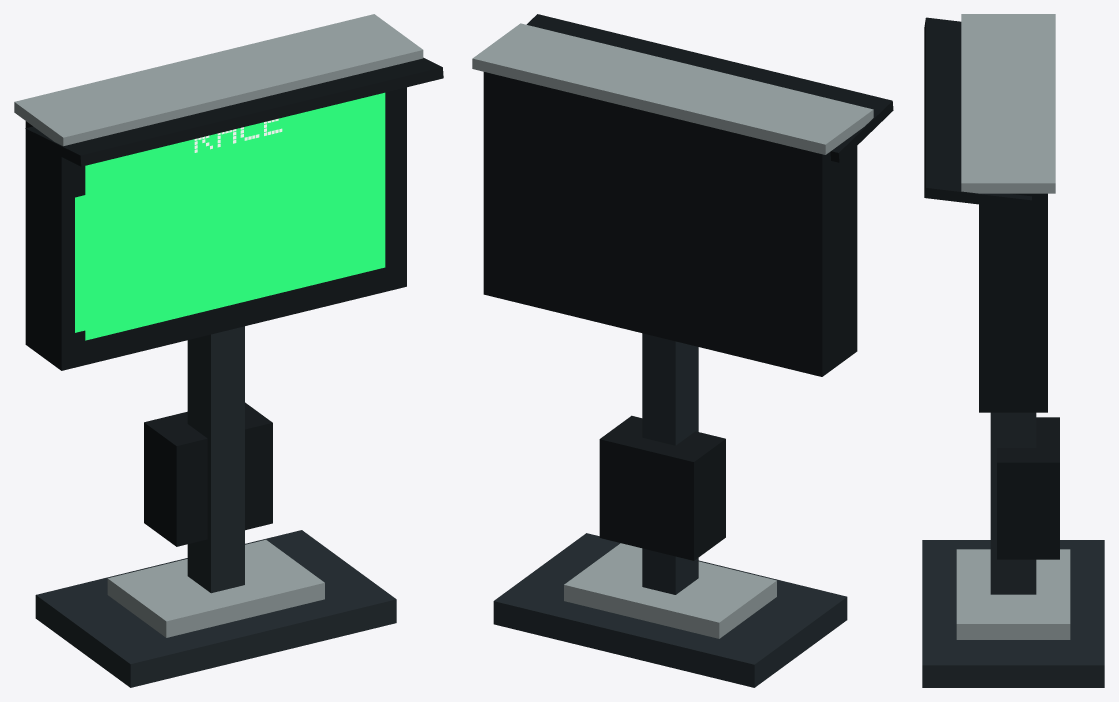
File: race-marshal-panel-lod3.glb
The picture shows the model from 3 angles, left to right: view 1: azimuth 30°, elevation 25°; view 2: azimuth 150°, elevation 25°; view 3: azimuth 270°, elevation 25°; orthographic projection. The views are drawn at different scales.
Parts seen in each view (by area): view 1: housing__Moulded_carbon_housing, flag-display-led__Marshal_display_—_addressable, frame__Powder-coated_graphite_frame, frame__Brushed_aluminium, FlagPanel_Display; view 2: housing__Moulded_carbon_housing, frame__Brushed_aluminium, frame__Powder-coated_graphite_frame; view 3: housing__Moulded_carbon_housing, frame__Brushed_aluminium, frame__Powder-coated_graphite_frame.
Boxes of the visible parts, left/top/right/bottom form: housing__Moulded_carbon_housing: left=25, top=57, right=443, bottom=546; flag-display-led__Marshal_display_—_addressable: left=75, top=122, right=382, bottom=332; frame__Powder-coated_graphite_frame: left=35, top=326, right=396, bottom=687; frame__Brushed_aluminium: left=14, top=14, right=423, bottom=637; FlagPanel_Display: left=85, top=92, right=385, bottom=340; housing__Moulded_carbon_housing: left=483, top=14, right=893, bottom=560; frame__Brushed_aluminium: left=472, top=23, right=873, bottom=638; frame__Powder-coated_graphite_frame: left=493, top=333, right=847, bottom=687; housing__Moulded_carbon_housing: left=924, top=17, right=1059, bottom=559; frame__Brushed_aluminium: left=956, top=14, right=1070, bottom=639; frame__Powder-coated_graphite_frame: left=922, top=412, right=1104, bottom=687.
Bounding box in the file's own units: 3.2 × 4.61 × 1.45.
